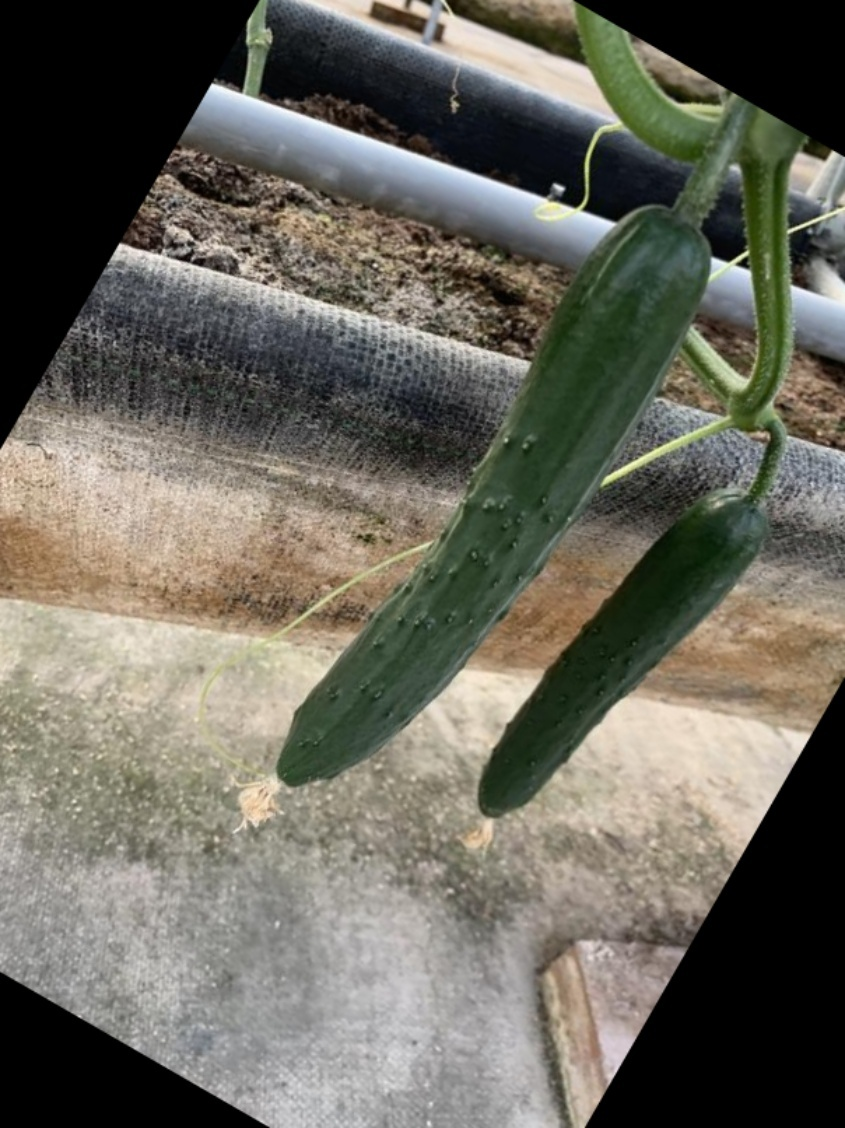mature: (467, 497, 754, 822)
